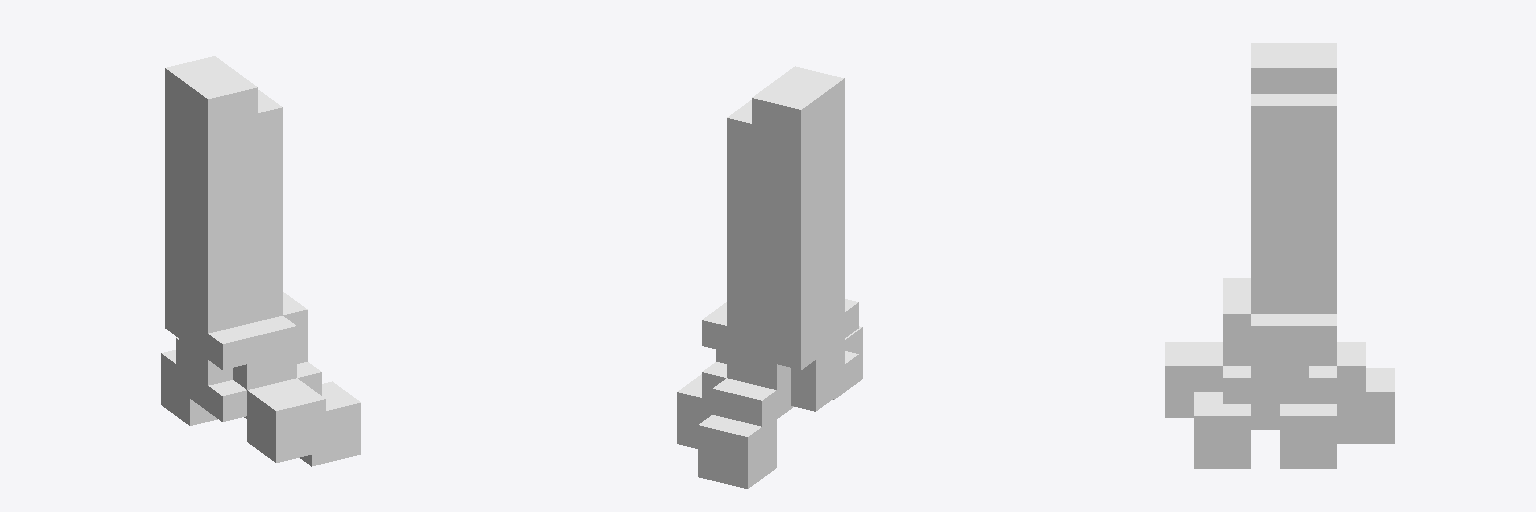
Rendered from Technar-4.obj.
The picture shows the model from 3 angles: view 1: azimuth 30°, elevation 25°; view 2: azimuth 150°, elevation 25°; view 3: azimuth 270°, elevation 25°; orthographic projection.
Visible parts, largest first — view 1: object 1; view 2: object 1; view 3: object 1.
Boxes of the visible parts, x1=… form: object 1: x1=161, y1=56, x2=360, y2=466; object 1: x1=677, y1=66, x2=862, y2=488; object 1: x1=1165, y1=43, x2=1394, y2=468.
Size of the model in its own units: 0.5 by 1.4 by 0.8.